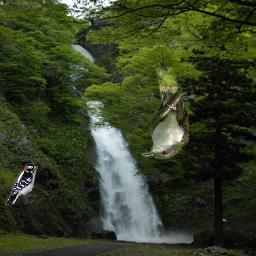Cuckoo: (143, 67, 190, 161)
Woodpecker: (6, 163, 39, 205)
